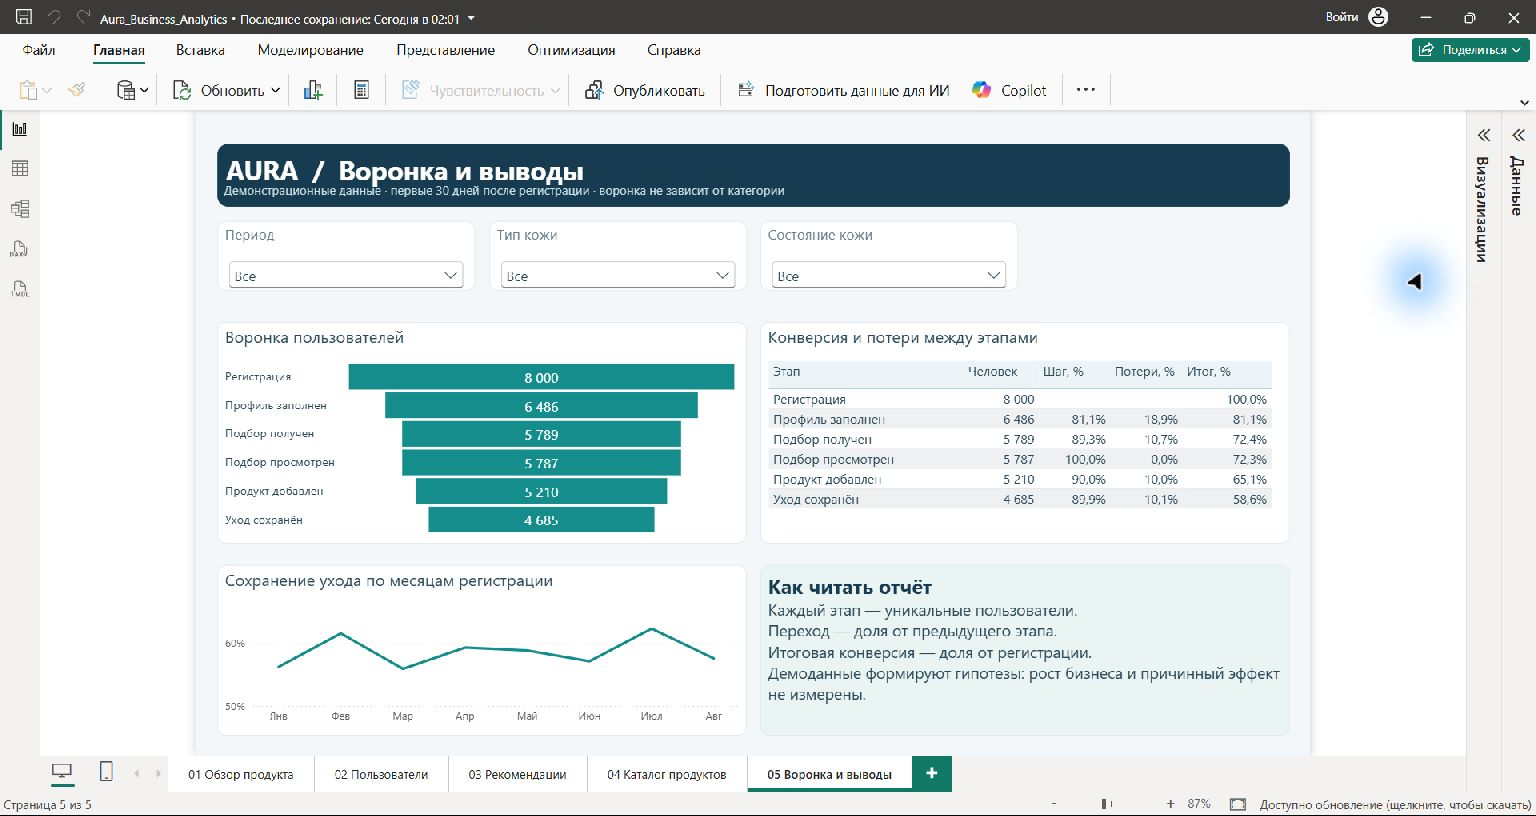

Layout of this report page (visuals, bound fields, positions):
{"tool":"powerbi","page":{"name":"05 Воронка и выводы","canvas":[1280,720],"ordinal":4},"visuals":[{"type":"textbox","box":[24,16,1232,72],"z":0},{"type":"textbox","box":[648,500,608,196],"z":0},{"type":"slicer","title":"Период","fields":{"Values":["Date.Месяц"]},"box":[24,104,296,80],"z":45},{"type":"slicer","title":"Тип кожи","fields":{"Values":["Users.skin_type"]},"box":[336,104,296,80],"z":46},{"type":"slicer","title":"Состояние кожи","fields":{"Values":["Users.skin_state"]},"box":[648,104,296,80],"z":47},{"type":"funnel","title":"Воронка пользователей","fields":{"Category":["FunnelStages.Этап"],"Y":["Users.Funnel Users"]},"box":[24,220,608,254],"z":48},{"type":"tableEx","title":"Конверсия и потери между этапами","fields":{"Values":["FunnelStages.Этап","Users.Funnel Users","Users.Conversion Rate","Users.Drop Off Rate","Users.Overall Conversion"]},"box":[648,220,608,254],"z":49},{"type":"lineChart","title":"Сохранение ухода по месяцам регистрации","fields":{"Category":["Date.Месяц кратко"],"Y":["Users.Routine Creation Rate"]},"box":[24,500,608,196],"z":50},{"type":"textbox","box":[26,52,1224,34],"z":100}]}

Visuals, with their boxes on the page's 1280x720 design canvas (x1, y1, x2, y2). These are canvas units, not pixel positions in the 1536x816 screenshot, which may show the page scaled, cropped or inside an application window:
textbox: select_region(24, 16, 1256, 88)
textbox: select_region(648, 500, 1256, 696)
"Период" slicer: select_region(24, 104, 320, 184)
"Тип кожи" slicer: select_region(336, 104, 632, 184)
"Состояние кожи" slicer: select_region(648, 104, 944, 184)
"Воронка пользователей" funnel: select_region(24, 220, 632, 474)
"Конверсия и потери между этапами" tableEx: select_region(648, 220, 1256, 474)
"Сохранение ухода по месяцам регистрации" lineChart: select_region(24, 500, 632, 696)
textbox: select_region(26, 52, 1250, 86)
